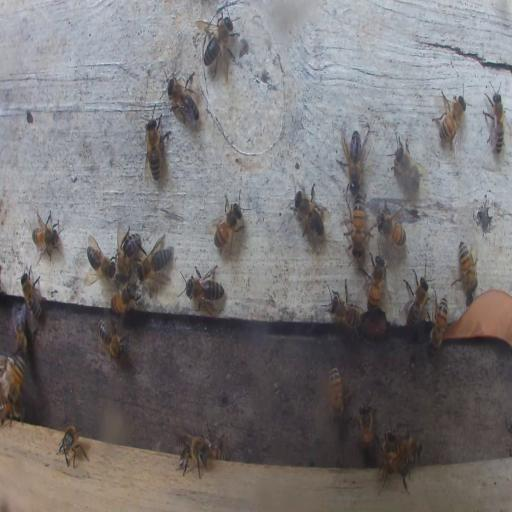nonpollenbee: (180, 263, 226, 314), (291, 182, 327, 241), (200, 13, 236, 72), (433, 89, 467, 150), (212, 193, 244, 254), (166, 70, 200, 126), (392, 134, 424, 192), (402, 270, 431, 332), (339, 128, 367, 192), (31, 205, 62, 262), (377, 448, 412, 498), (144, 111, 168, 181), (175, 431, 209, 479), (484, 84, 506, 158), (138, 236, 174, 281), (325, 289, 363, 330), (85, 235, 116, 283), (345, 195, 368, 258), (56, 425, 88, 468), (20, 268, 44, 323), (456, 239, 478, 297), (328, 365, 350, 422), (97, 318, 126, 361), (363, 256, 385, 309), (377, 206, 406, 246), (430, 296, 450, 354), (118, 226, 142, 270), (109, 283, 139, 317), (357, 399, 374, 457), (394, 432, 422, 462), (205, 425, 225, 461), (0, 398, 24, 425), (14, 305, 26, 353), (387, 432, 397, 454)
pollenbee: (7, 356, 25, 402)
